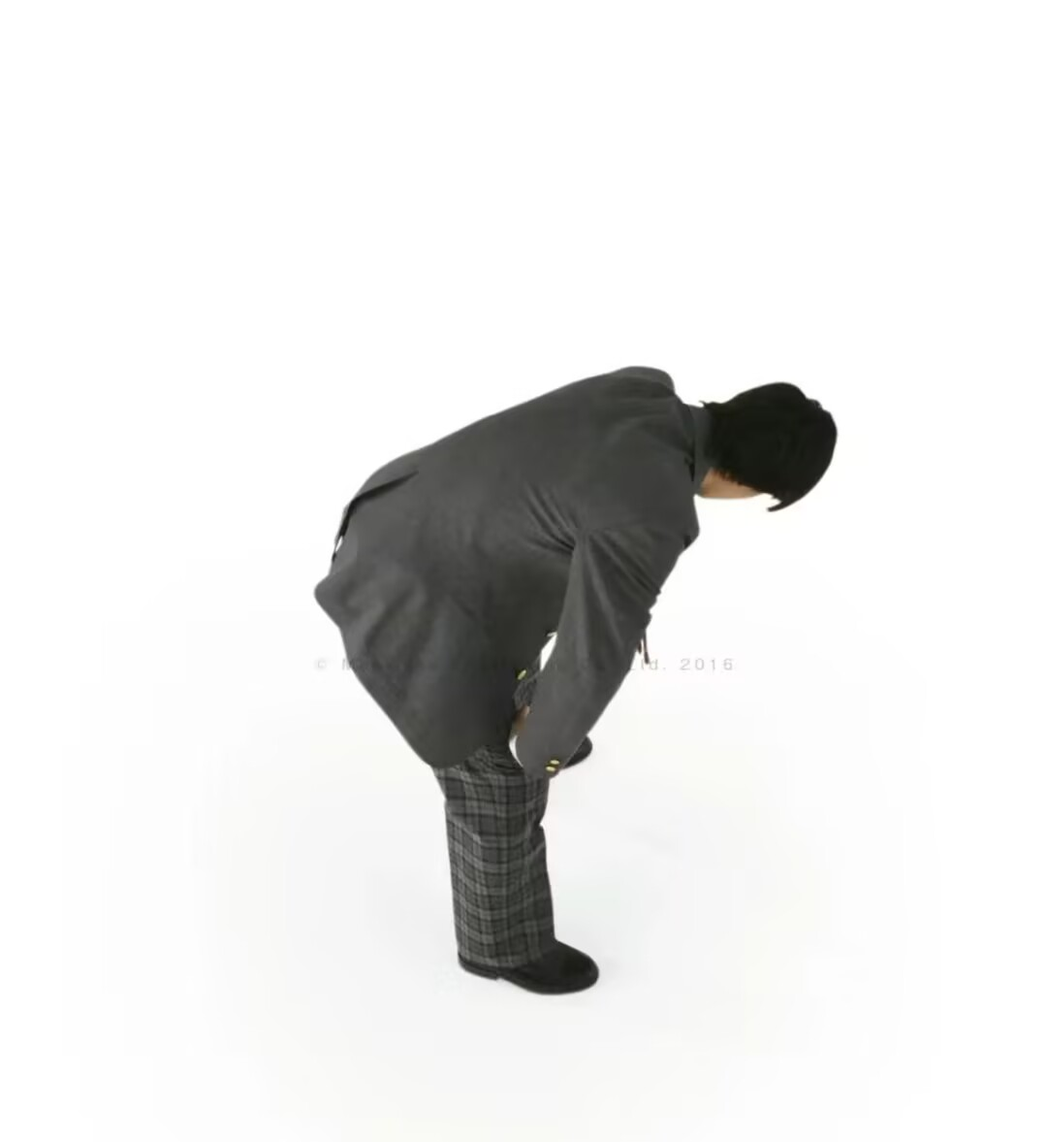bending: (236, 333, 873, 1012)
